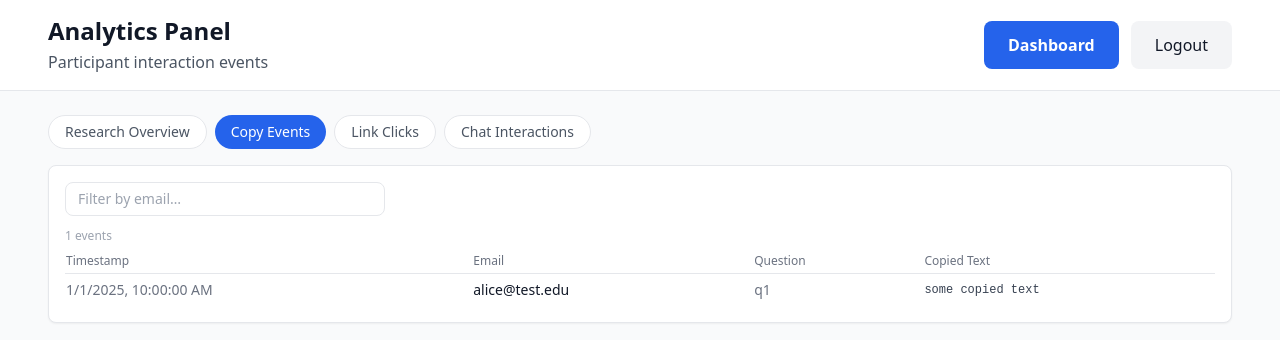
it: AnalyticsPanelPage › Link Clicks tab › loads link clicks when the Link Clicks tab is selected
The image size is (1280, 340).
expect the heading "Analytics Panel" is shown: met, box left=48, top=14, right=231, bottom=47
Click the button "Link Clicks" at (385,132), box left=334, top=115, right=436, bottom=149
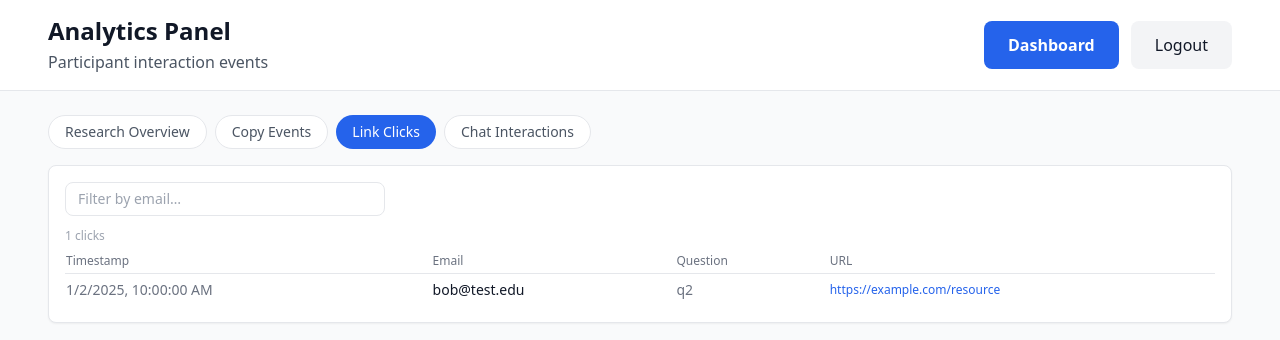
expect the text "bob@test.edu" is shown: met, box left=432, top=274, right=676, bottom=306
expect the link "https://example.com/resource" is shown: met, box left=830, top=281, right=1000, bottom=298
expect the text "1 clicks" is shown: met, box left=65, top=227, right=105, bottom=244
